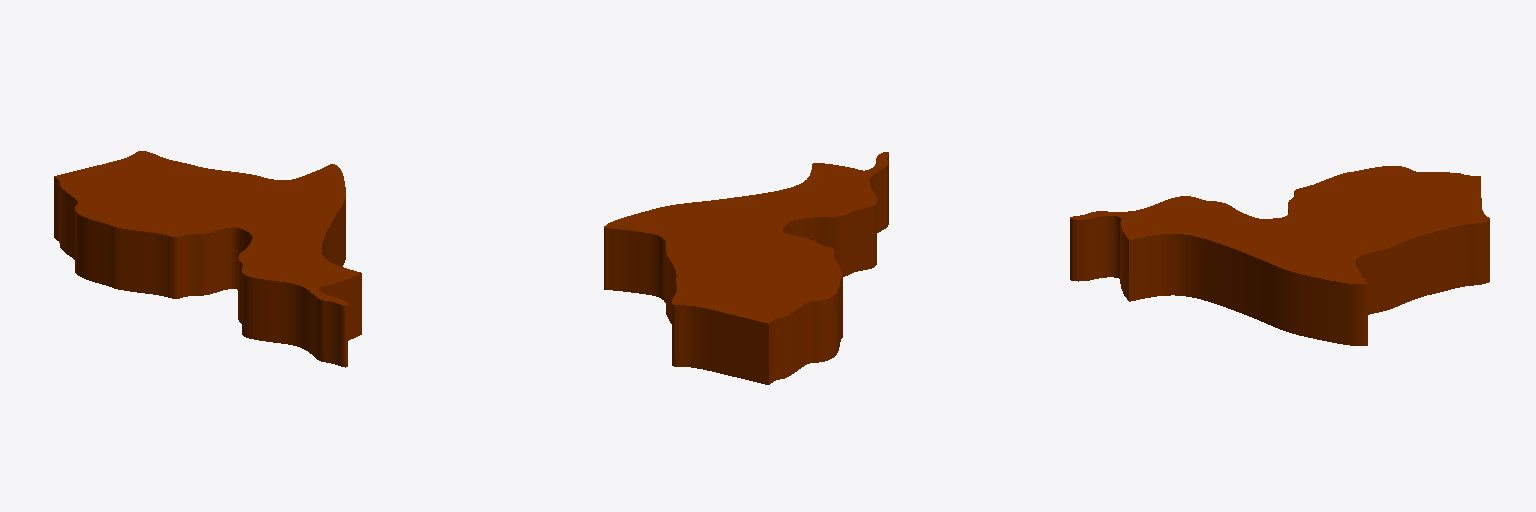
3 views of the same model, side by side, from view 1: azimuth 30°, elevation 25°; view 2: azimuth 150°, elevation 25°; view 3: azimuth 270°, elevation 25° (orthographic).
Visible parts, largest first — view 1: Curve.023_path4222; view 2: Curve.023_path4222; view 3: Curve.023_path4222.
Part boxes in pixels (x1,y1,x2,y2): Curve.023_path4222: (54, 151, 361, 367); Curve.023_path4222: (604, 152, 888, 384); Curve.023_path4222: (1070, 166, 1489, 345).
Bounding box in the file's own units: 0.4122 × 0.1 × 0.6176.